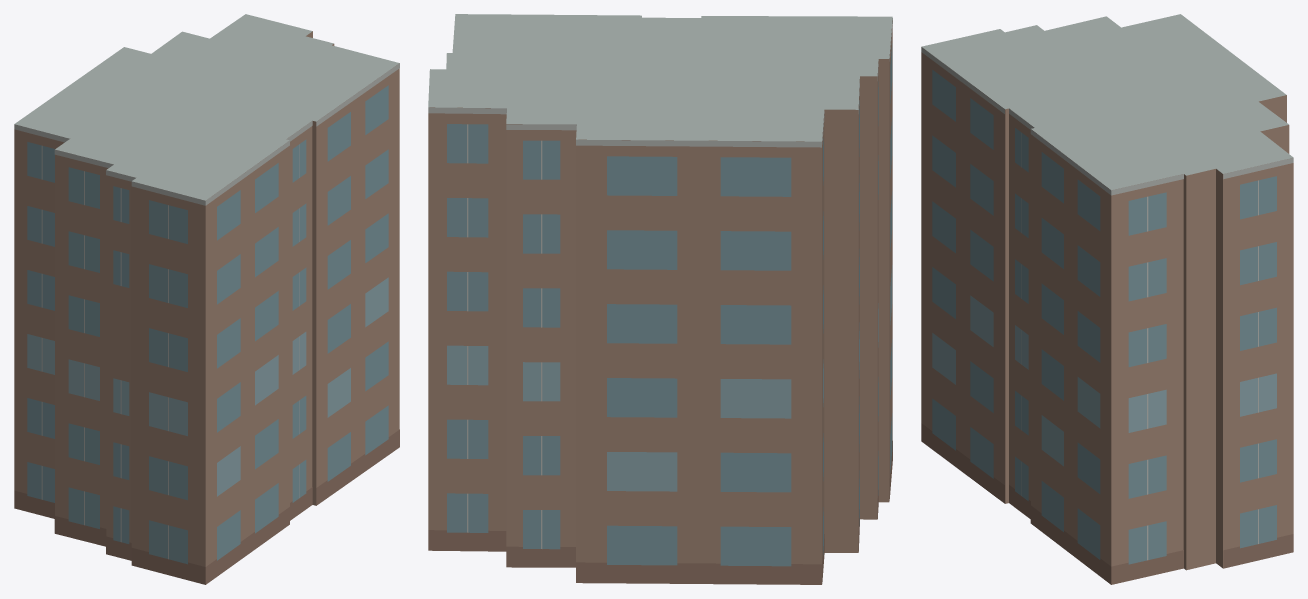
Rendered from survey-upis-32907132.glb.
The picture shows the model from 3 angles, left to right: view 1: azimuth 30°, elevation 25°; view 2: azimuth 150°, elevation 25°; view 3: azimuth 270°, elevation 25°; orthographic projection. The views are drawn at different scales.
Parts seen in each view (by area): view 1: survey-upis-32907132.tmp; view 2: survey-upis-32907132.tmp; view 3: survey-upis-32907132.tmp.
Part boxes in pixels (x1,y1,x2,y2): survey-upis-32907132.tmp: (14, 14, 399, 584); survey-upis-32907132.tmp: (428, 14, 892, 584); survey-upis-32907132.tmp: (921, 14, 1293, 584).
Size of the model in its own units: 17.54 by 18.3 by 15.66.
